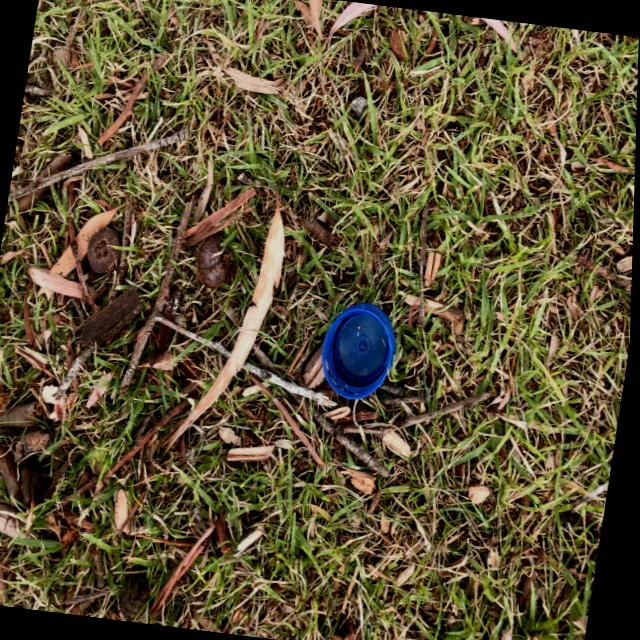Plastic: (309, 284, 411, 416)
